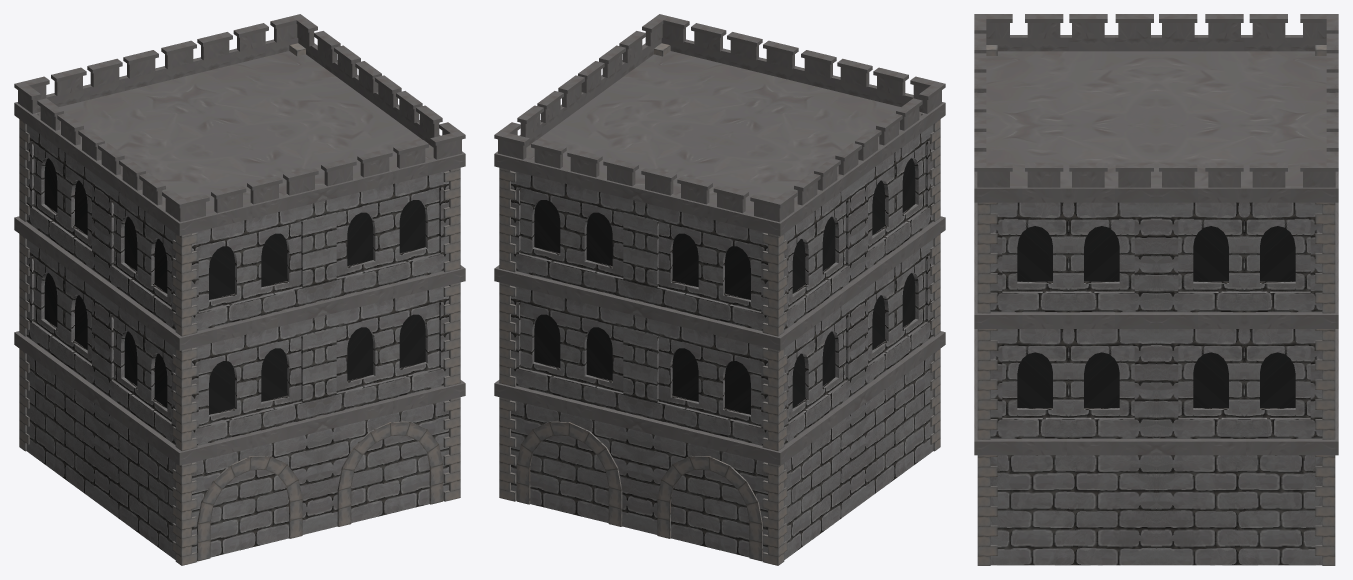
Rendered from building01.fbx.
3 views of the same model, side by side, from view 1: azimuth 30°, elevation 25°; view 2: azimuth 150°, elevation 25°; view 3: azimuth 270°, elevation 25° (orthographic). The views are drawn at different scales.
Parts seen in each view (by area): view 1: Cube.007; view 2: Cube.007; view 3: Cube.007.
Boxes of the visible parts, bbox=[...] form: Cube.007: bbox=[14, 14, 465, 565]; Cube.007: bbox=[494, 14, 945, 565]; Cube.007: bbox=[974, 14, 1338, 565].
Size of the model in its own units: 828 by 828 by 1005.
